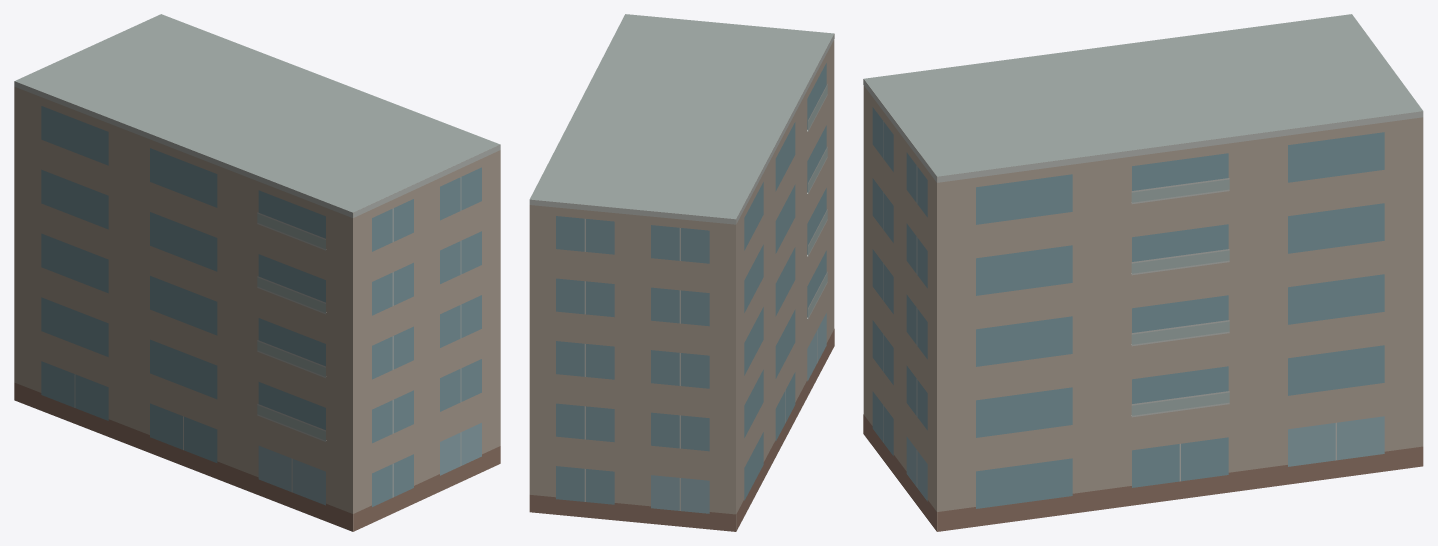
Rendered from survey-upis-32621321.glb.
The picture shows the model from 3 angles, left to right: view 1: azimuth 30°, elevation 25°; view 2: azimuth 150°, elevation 25°; view 3: azimuth 270°, elevation 25°; orthographic projection. The views are drawn at different scales.
Parts seen in each view (by area): view 1: survey-upis-32621321.tmp; view 2: survey-upis-32621321.tmp; view 3: survey-upis-32621321.tmp.
Boxes of the visible parts, x1=… form: survey-upis-32621321.tmp: x1=14, y1=14, x2=500, y2=531; survey-upis-32621321.tmp: x1=529, y1=14, x2=834, y2=531; survey-upis-32621321.tmp: x1=863, y1=14, x2=1423, y2=531.
Size of the model in its own units: 13.92 by 14.15 by 20.23.
